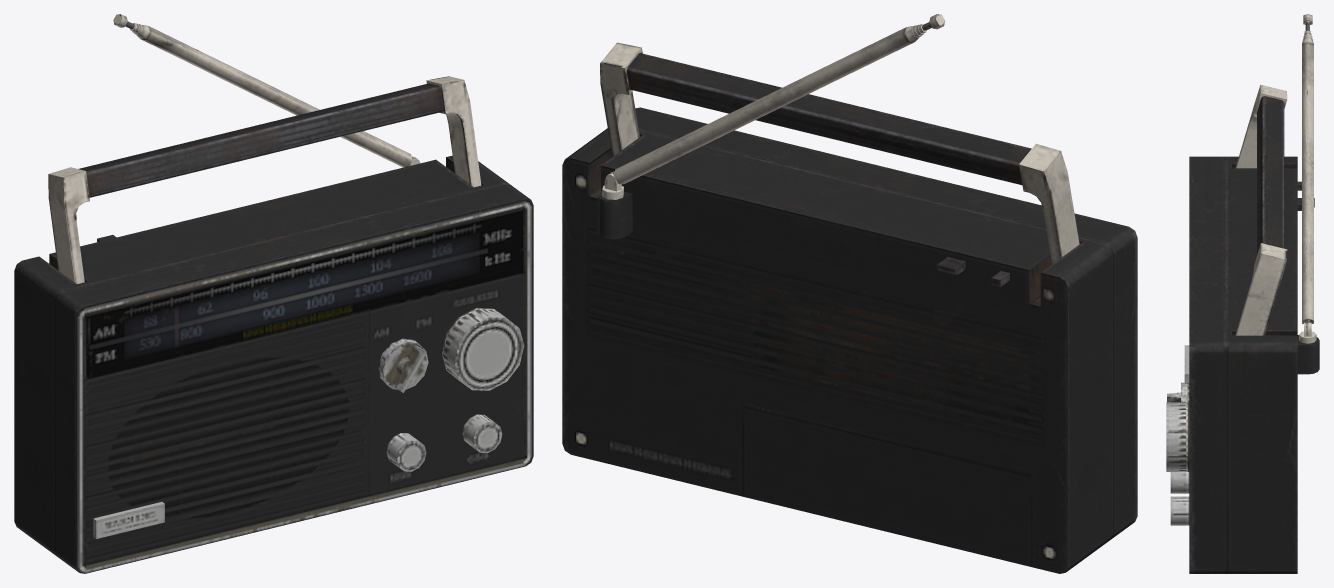
The model's file is 061_WhiteBoard2.fbx.
3 renders of one model, left to right at view 1: azimuth 30°, elevation 25°; view 2: azimuth 150°, elevation 25°; view 3: azimuth 270°, elevation 25°, orthographic. The views are drawn at different scales.
Parts seen in each view (by area): view 1: LOD_1_Group_0_Sub_1__sm31_061_radio01A_A_Mat; view 2: LOD_1_Group_0_Sub_1__sm31_061_radio01A_A_Mat; view 3: LOD_1_Group_0_Sub_1__sm31_061_radio01A_A_Mat.
Boxes of the visible parts, left/top/right/bottom form: LOD_1_Group_0_Sub_1__sm31_061_radio01A_A_Mat: left=14, top=14, right=533, bottom=573; LOD_1_Group_0_Sub_1__sm31_061_radio01A_A_Mat: left=562, top=14, right=1137, bottom=573; LOD_1_Group_0_Sub_1__sm31_061_radio01A_A_Mat: left=1166, top=14, right=1319, bottom=573.
Size of the model in its own units: 0.3518 by 0.3567 by 0.1184.
